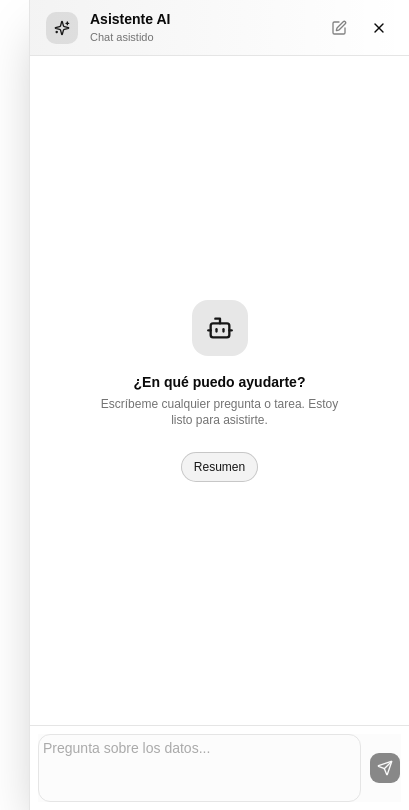
Test case: sends a chip prompt and shows the reply
What coordinates should you click on to do the following:
click the button "Resumen"
I would click on:
 (220, 467)
Its box is [181, 452, 258, 482].
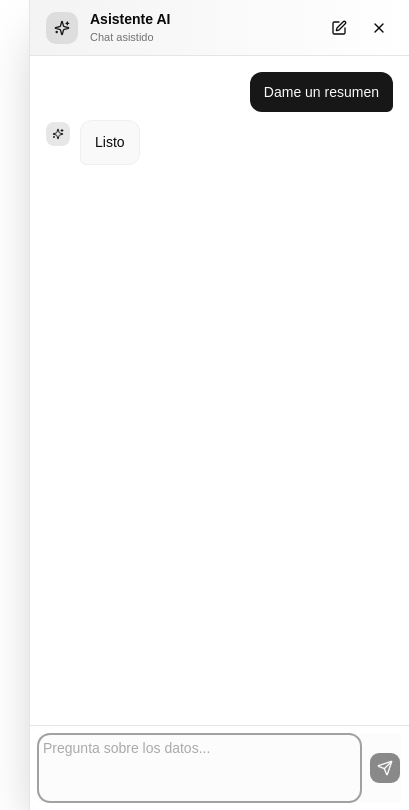
Expected: the text "Listo" is shown, [95, 134, 125, 150]
Now the text "Dame un resumen" is shown, box [264, 82, 379, 102]
